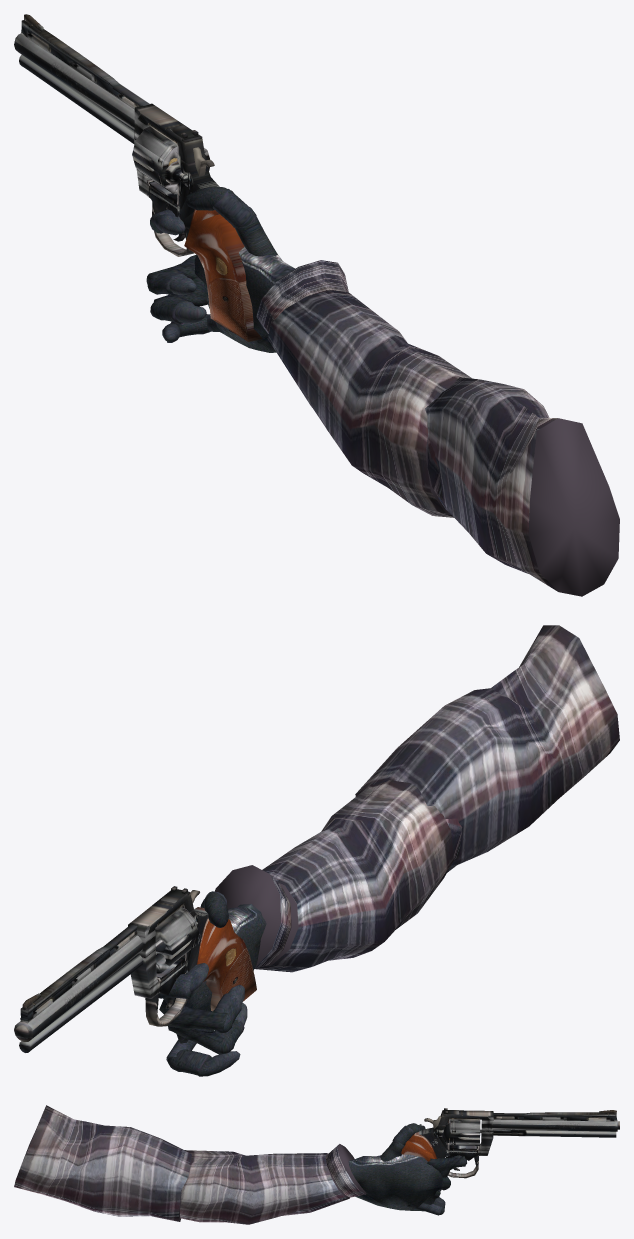
Rendered from python_ads.fbx.
3 views of the same model, one above another, from view 1: azimuth 30°, elevation 25°; view 2: azimuth 150°, elevation 25°; view 3: azimuth 270°, elevation 25° (orthographic). The views are drawn at different scales.
Visible parts, largest first — view 1: rupperarm, rforearm, PythonGrip, PythonBody, PythonBarrel, rhand, PythonFrontSight, PythonCylinder, rthumbmiddle, rthumbback; view 2: rupperarm, rforearm, PythonBarrel, PythonBody, PythonGrip, PythonFrontSight, rhand, PythonCylinder, rmfingerback, PythonTriggerGuard, rpinkymiddle, rifingerback (+2 smaller); view 3: rupperarm, rforearm, rhand, PythonBody, PythonBarrel, PythonFrontSight, PythonCylinder, rpfingerback, PythonGrip, rthumbback, rthumbmiddle, rpinkyback (+1 smaller).
Part boxes in pixels (x1=…): rupperarm: x1=425, y1=377, x2=619, y2=596; rforearm: x1=256, y1=260, x2=472, y2=517; PythonGrip: x1=184, y1=214, x2=262, y2=341; PythonBody: x1=134, y1=103, x2=219, y2=239; PythonBarrel: x1=14, y1=33, x2=134, y2=143; rhand: x1=194, y1=247, x2=295, y2=352; PythonFrontSight: x1=21, y1=14, x2=150, y2=109; PythonCylinder: x1=132, y1=126, x2=210, y2=194; rthumbmiddle: x1=212, y1=189, x2=256, y2=228; rthumbback: x1=235, y1=217, x2=277, y2=256; rupperarm: x1=355, y1=625, x2=619, y2=872; rforearm: x1=214, y1=780, x2=453, y2=972; PythonBarrel: x1=14, y1=935, x2=143, y2=1052; PythonBody: x1=128, y1=890, x2=215, y2=998; PythonGrip: x1=199, y1=919, x2=256, y2=1011; PythonFrontSight: x1=20, y1=924, x2=137, y2=1023; rhand: x1=159, y1=904, x2=266, y2=1043; PythonCylinder: x1=155, y1=907, x2=199, y2=973; rmfingerback: x1=165, y1=1006, x2=228, y2=1030; PythonTriggerGuard: x1=145, y1=973, x2=187, y2=1026; rpinkymiddle: x1=167, y1=1049, x2=211, y2=1076; rifingerback: x1=168, y1=1026, x2=224, y2=1054; rupperarm: x1=14, y1=1105, x2=191, y2=1221; rforearm: x1=180, y1=1144, x2=366, y2=1224; rhand: x1=348, y1=1154, x2=443, y2=1211; PythonBody: x1=408, y1=1110, x2=493, y2=1160; PythonBarrel: x1=490, y1=1119, x2=619, y2=1137; PythonFrontSight: x1=493, y1=1110, x2=616, y2=1121; PythonCylinder: x1=449, y1=1119, x2=481, y2=1145; rpfingerback: x1=427, y1=1156, x2=465, y2=1178; PythonGrip: x1=401, y1=1140, x2=434, y2=1161; rthumbback: x1=380, y1=1141, x2=424, y2=1163; rthumbmiddle: x1=392, y1=1125, x2=413, y2=1145; rpinkyback: x1=407, y1=1203, x2=441, y2=1215.
Size of the model in its own units: 4.32 by 6.9 by 34.35.
